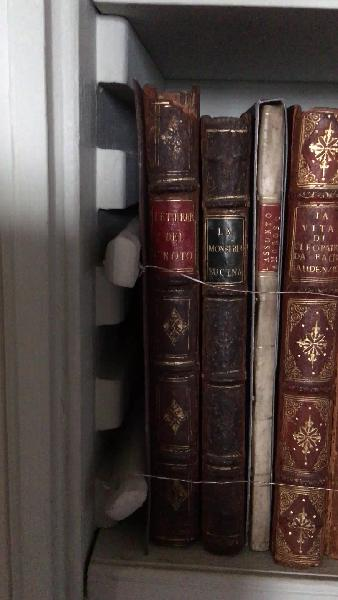Aa6-1: (136, 78, 200, 550)
Aa6-2: (192, 107, 248, 561)
Aa6-3: (250, 96, 290, 561)
Aa6-4: (282, 105, 336, 567)
